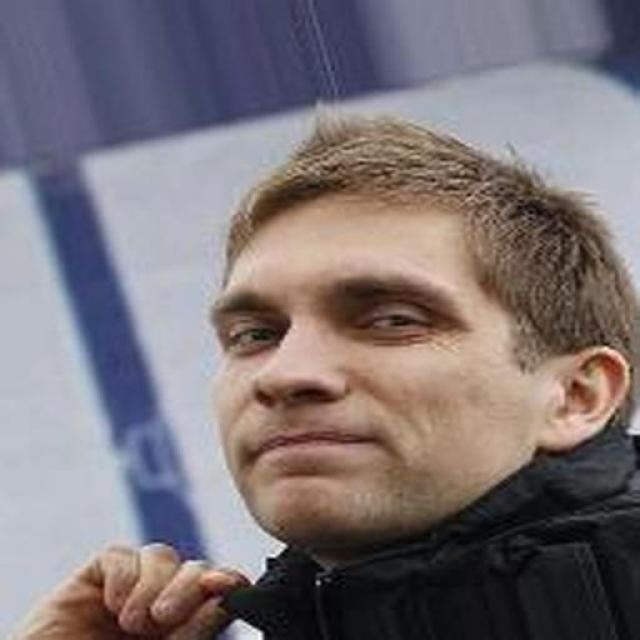bareface: (202, 209, 535, 532)
